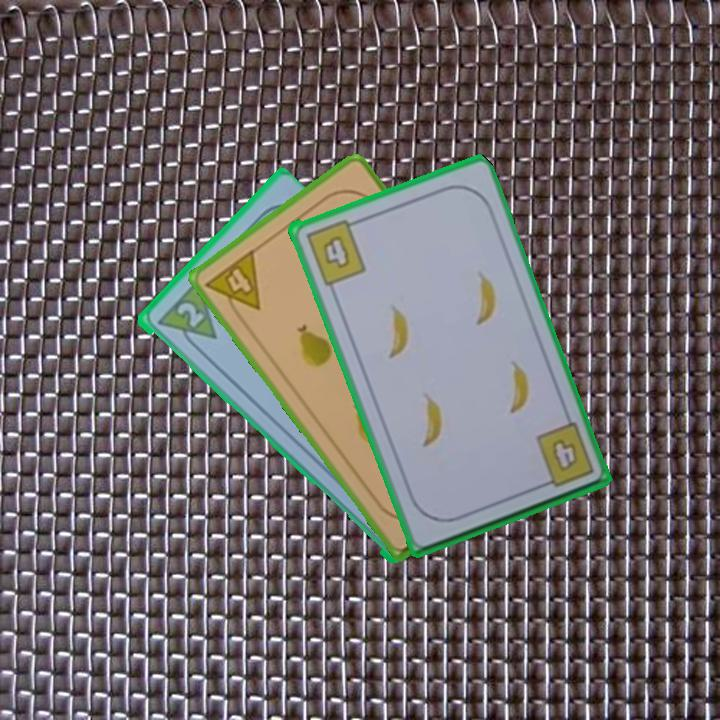2p: (172, 298, 207, 331)
4b: (301, 215, 369, 288), (547, 434, 581, 475)
4p: (201, 245, 264, 325)
